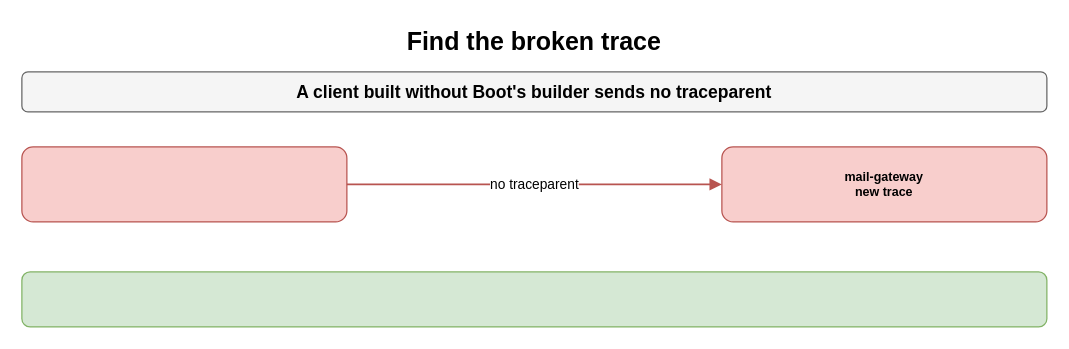
This 1069x349 diagram has some shape labels left out. The box of each missing label's shape, as (x1, y1, x2, y2) in pixels:
employee-service RestClient.create(...): (21, 146, 347, 222)
inject RestClient.Builder and build the client from it: (21, 271, 1047, 327)
